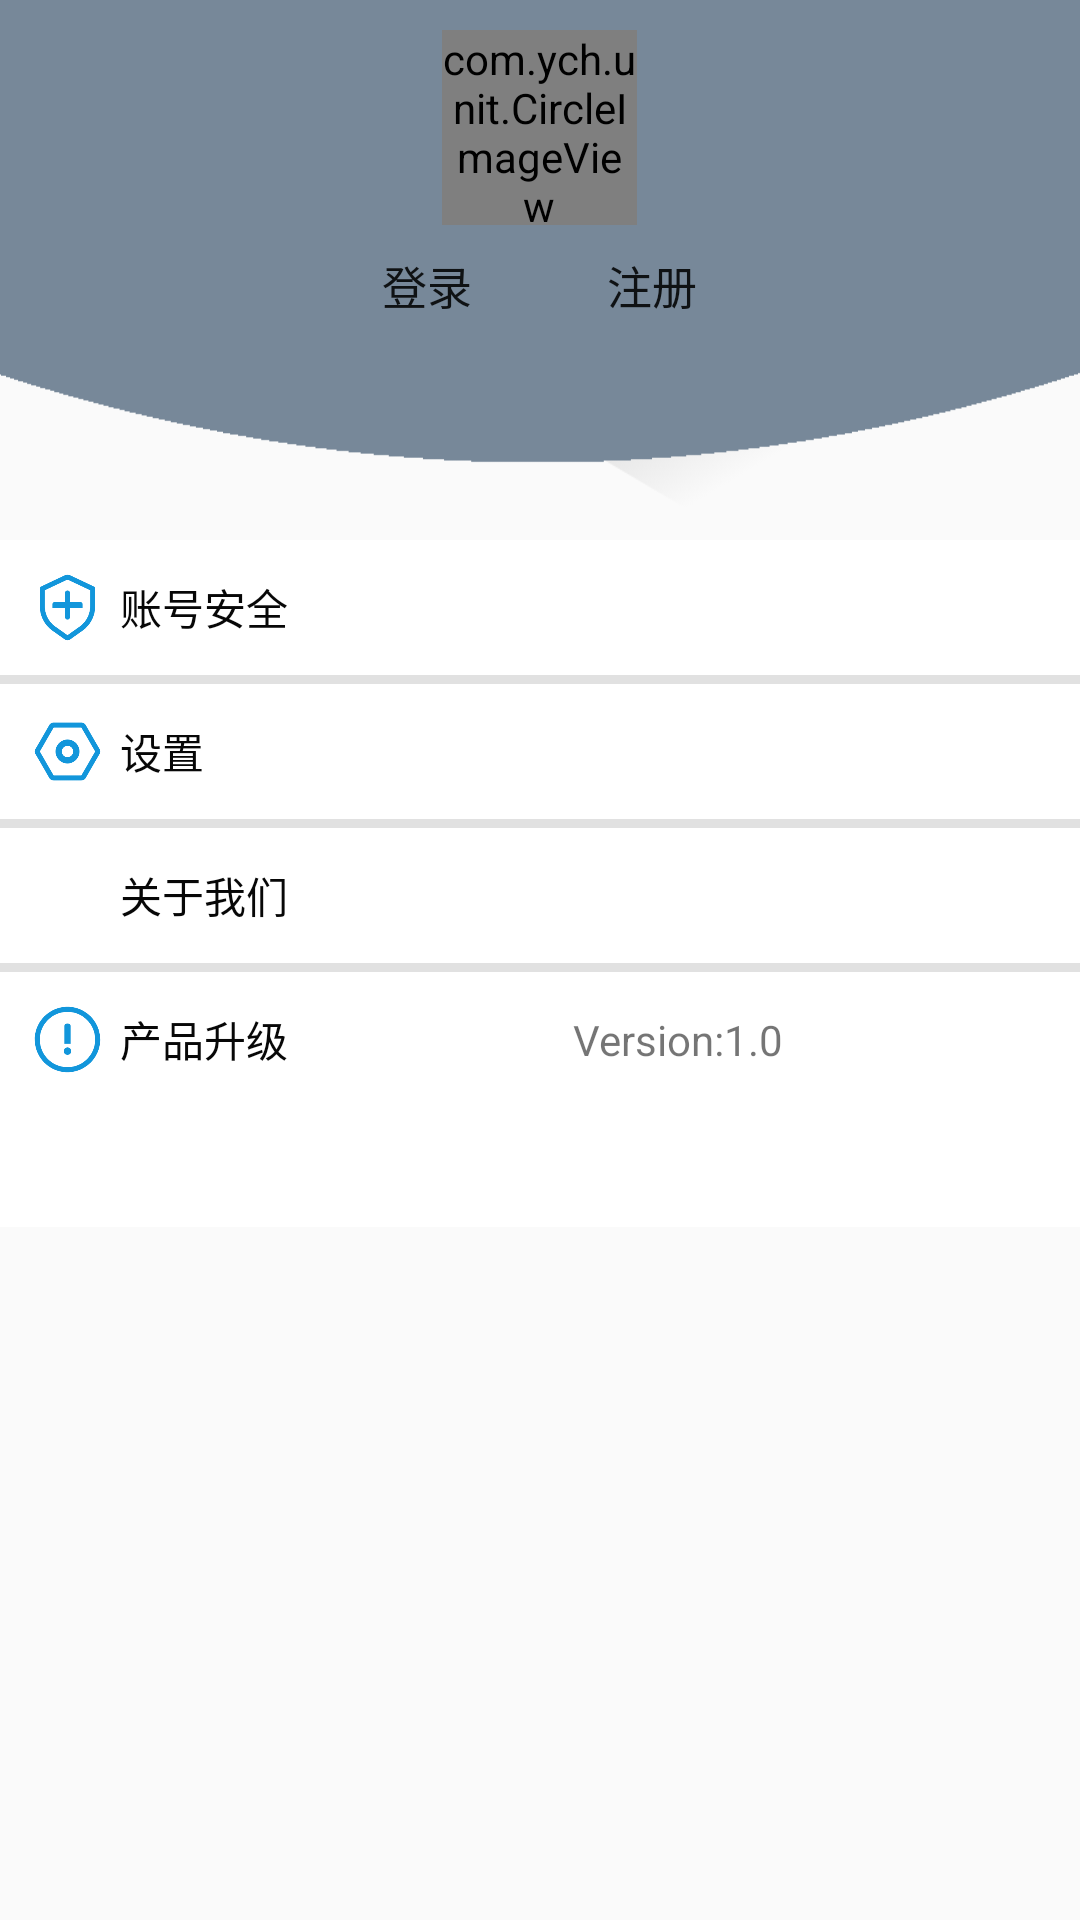

Screen size 1080px×1920px. Icon name, then its center in pixels as [x,y]:
info: [67,1039]
safe: [67,607]
setting: [67,751]
